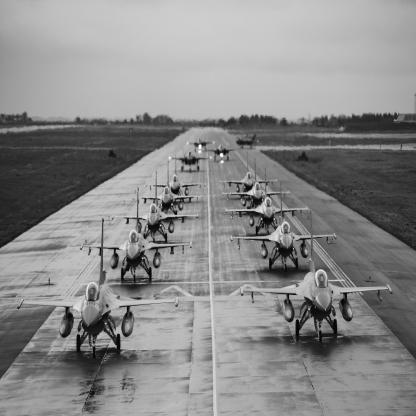F16: (18, 219, 179, 360), (241, 211, 394, 343), (81, 188, 193, 284), (231, 182, 338, 273), (113, 172, 200, 244), (227, 167, 310, 236), (223, 159, 292, 215), (133, 162, 204, 216), (220, 152, 278, 200), (145, 154, 208, 197)
F35: (169, 146, 213, 174), (203, 141, 240, 162), (187, 135, 216, 153), (237, 134, 260, 151)
